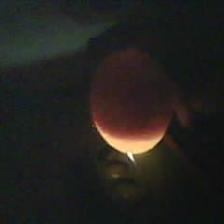fertile: (88, 47, 172, 154)
